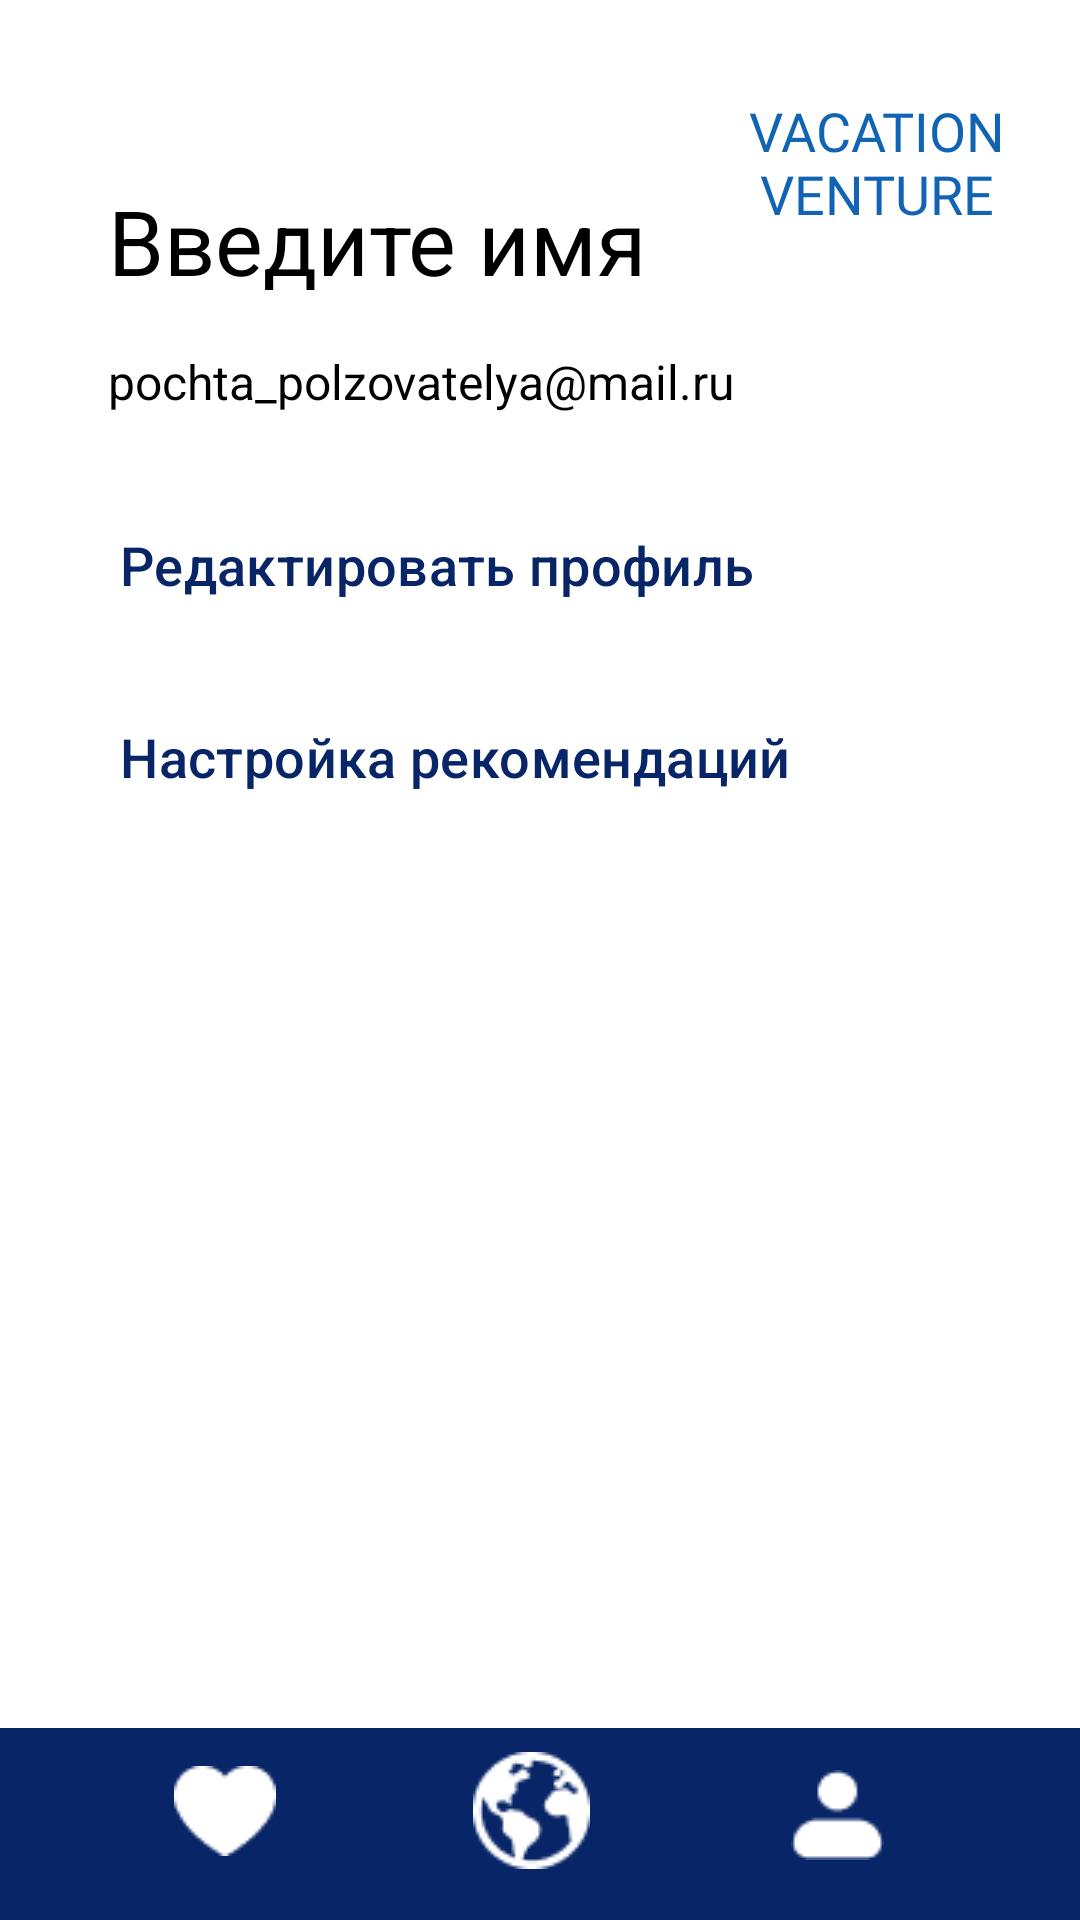

Locate icon controls on the screen. Image size 1080x1920, boxes as (x1, y1, x2, y2).
Главная: (473, 1752, 590, 1869)
Избранное: (174, 1766, 276, 1856)
Профиль: (791, 1770, 884, 1860)
